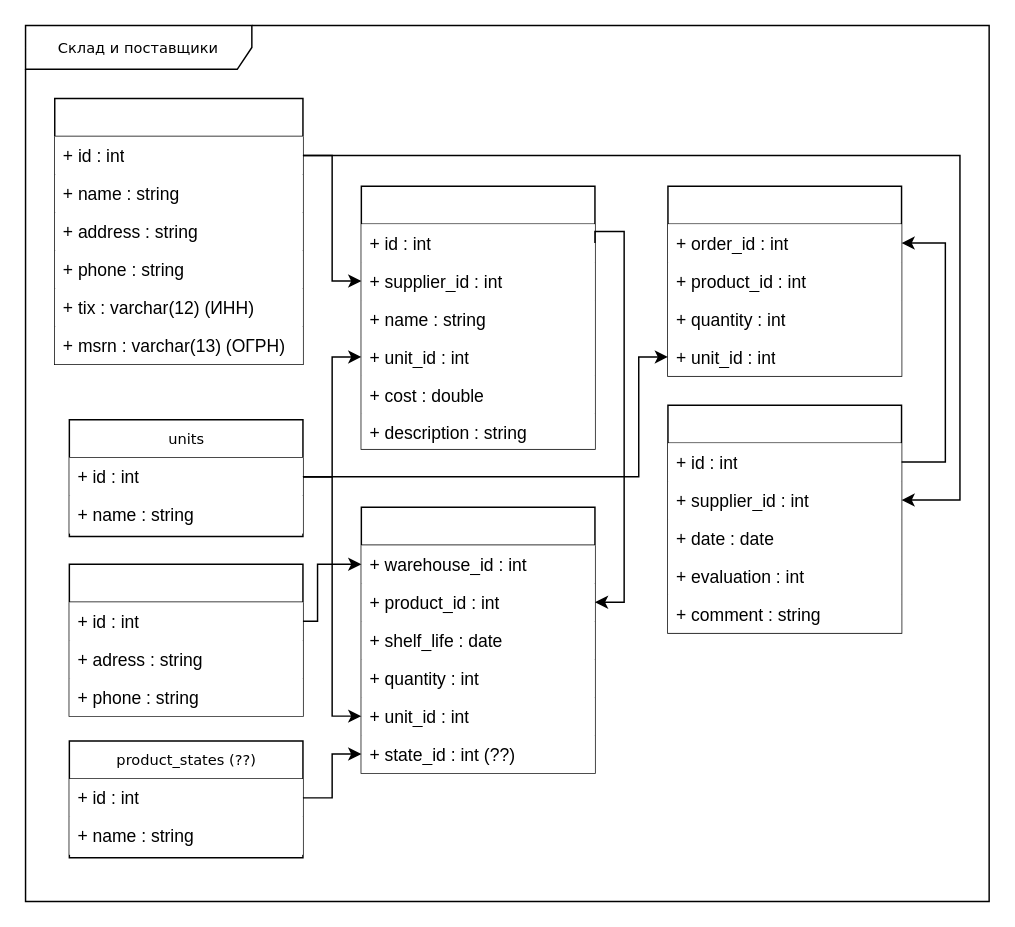
The diagram is 1015 pixels wide and 927 high, and some of its shapes have lost their labels. Each missing label, with the box of its shape:
balance: (360, 506, 595, 773)
orders: (666, 404, 902, 633)
orders_2_products: (666, 185, 902, 376)
products: (360, 185, 595, 449)
suppliers: (53, 97, 303, 364)
warehouses: (68, 563, 303, 716)
